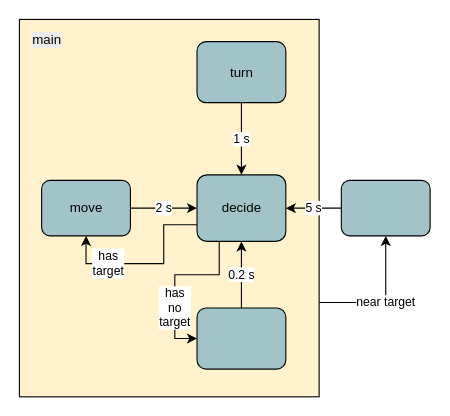
Image size: 450x416. Some labels were removed from this diagram. Here are the shapes that lost their labels. From the top down, the centre of each, then its label:
At pixel 385 207: "sleep".
At pixel 241 338: "wait".
